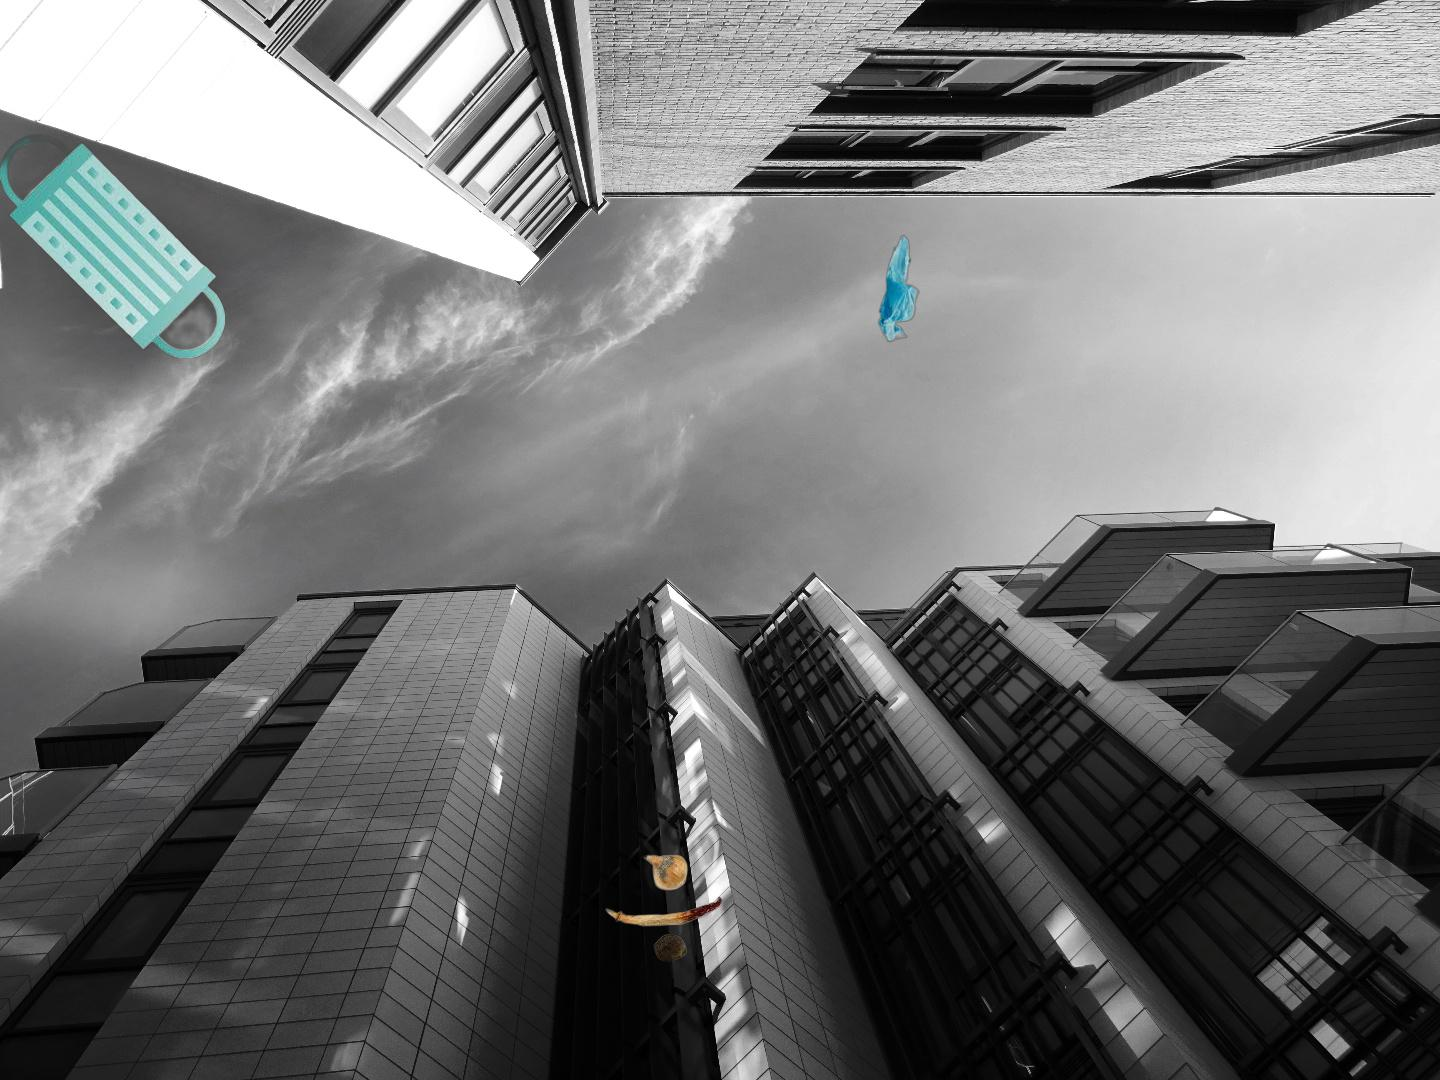biological: (601, 838, 726, 965)
plastic-bag: (876, 233, 921, 343)
trash: (0, 134, 225, 358)
